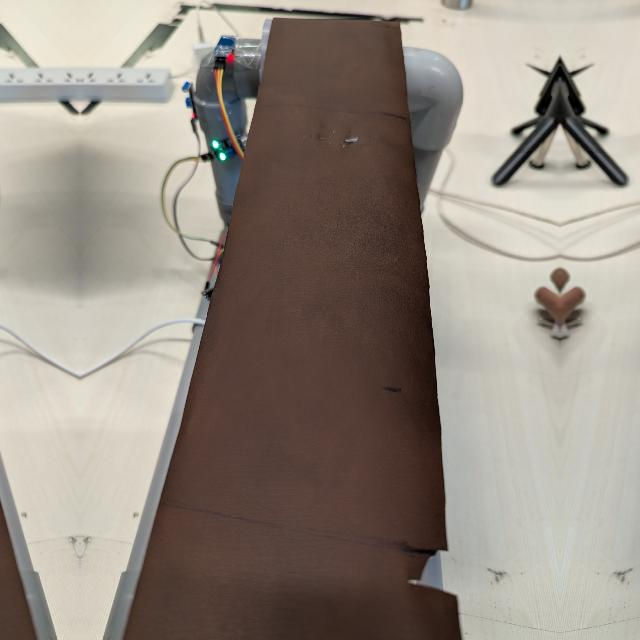belt_crack: (299, 108, 402, 155)
belt_tear: (378, 511, 468, 607)
